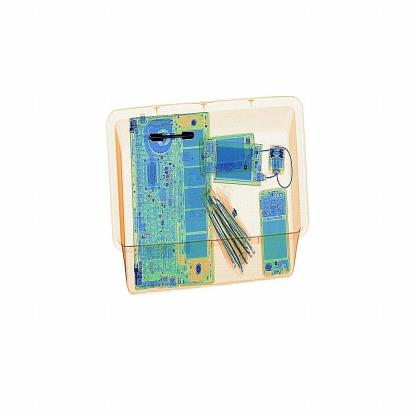knife: (138, 119, 206, 150)
